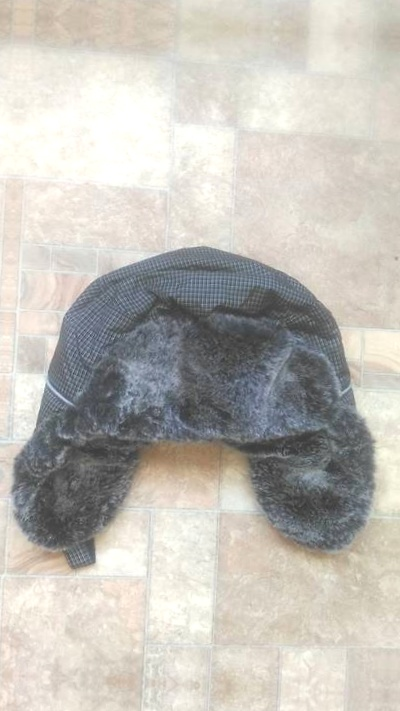Hat: (8, 206, 392, 596)
